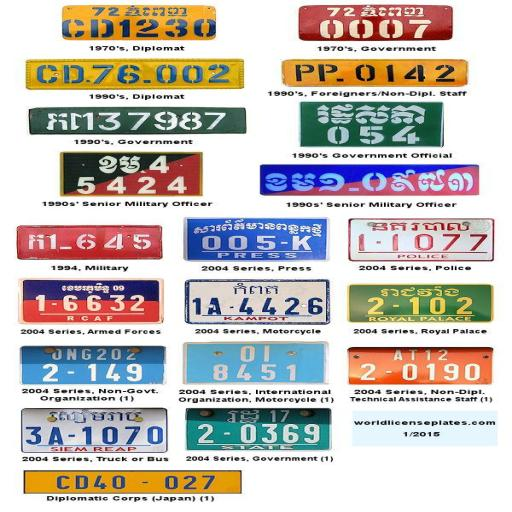Plate Number: (263, 164, 482, 198), (346, 216, 499, 264), (28, 58, 250, 91), (26, 408, 172, 453), (26, 280, 164, 325), (186, 280, 326, 324), (190, 408, 333, 451), (301, 104, 444, 146), (19, 344, 164, 385), (64, 3, 220, 41), (184, 218, 324, 260), (64, 153, 203, 195), (297, 3, 452, 40), (184, 345, 328, 384), (352, 347, 495, 386), (19, 469, 250, 493), (24, 224, 162, 263), (28, 107, 250, 131), (346, 285, 490, 321)
